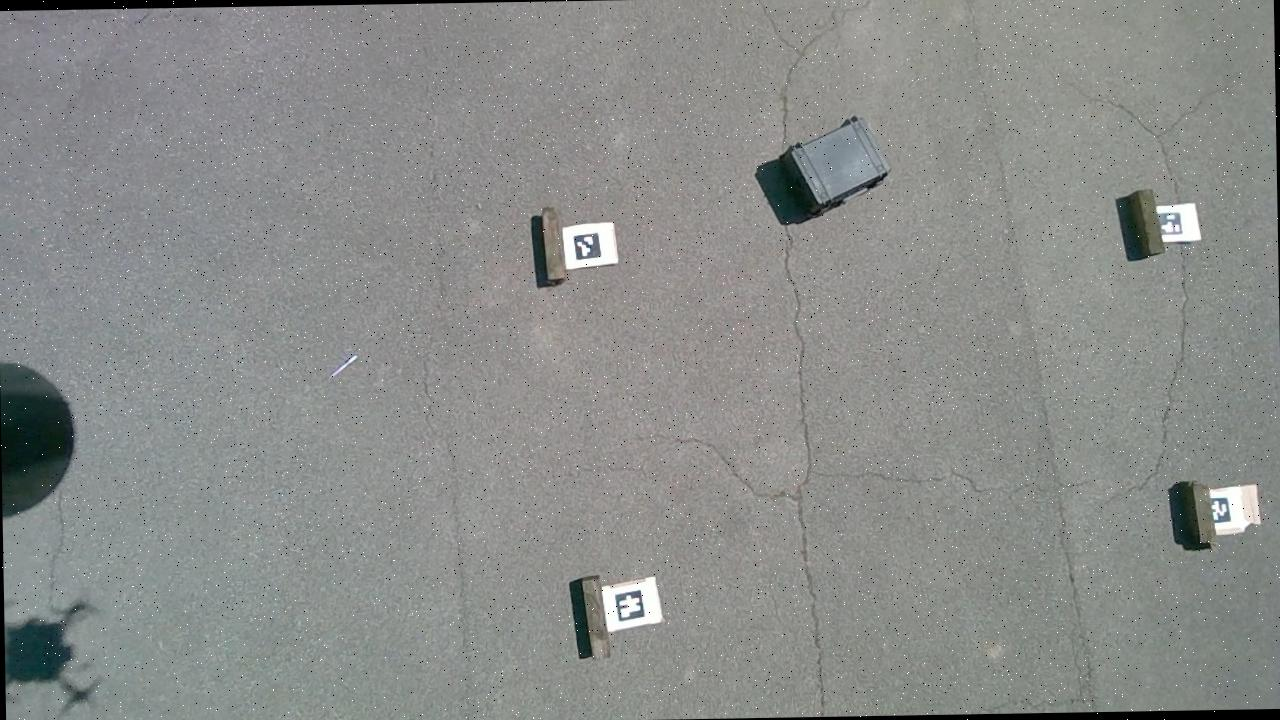probes: (330, 354, 359, 378)
rako: (754, 117, 891, 226)
